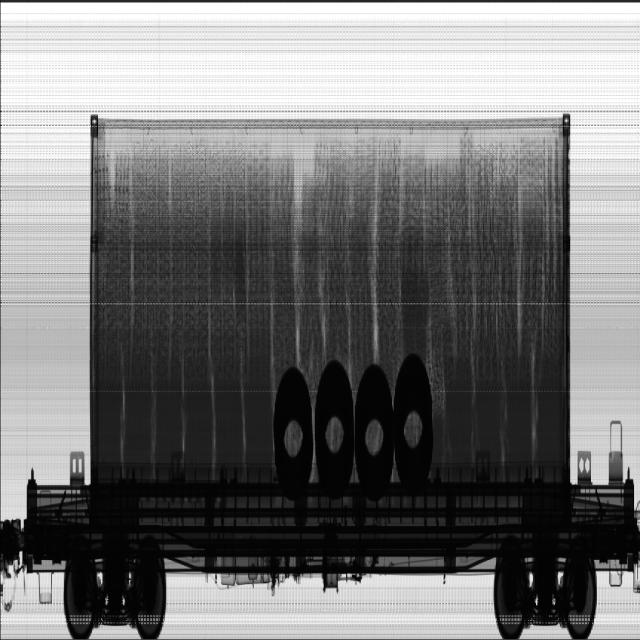shoes: (298, 138, 568, 345)
